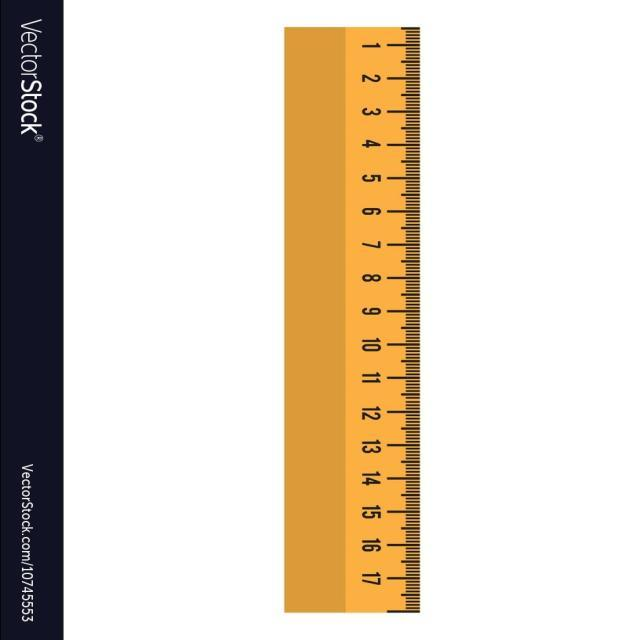Ruler: (278, 20, 428, 624)
